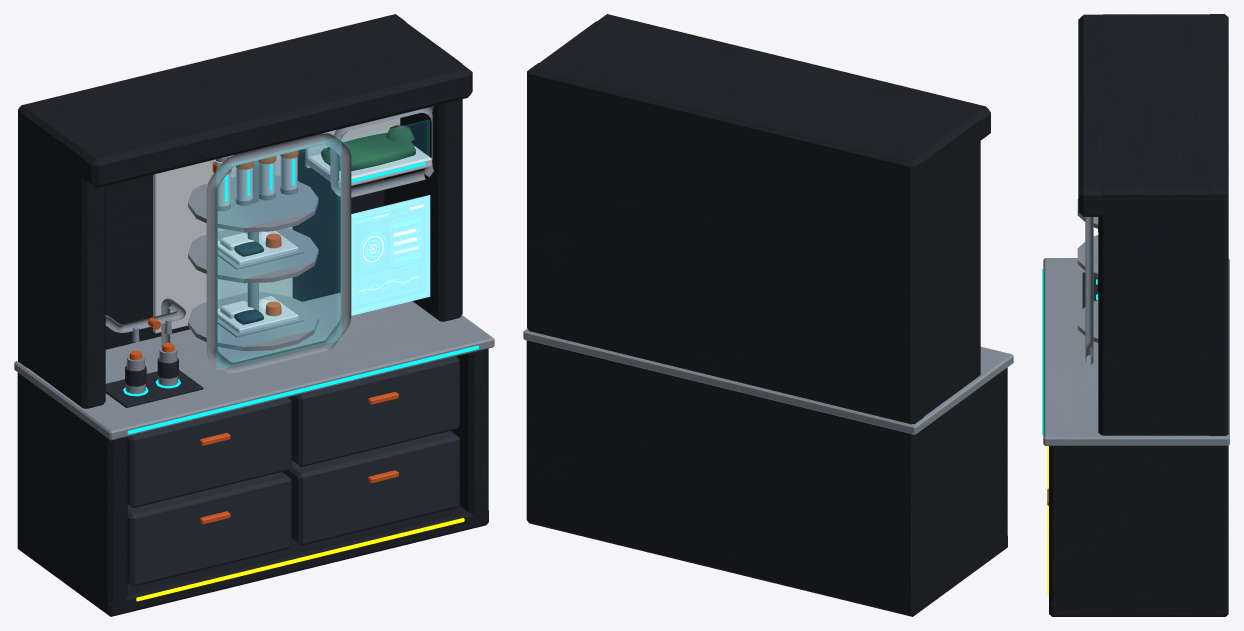
File: galley_synth_r1_03.glb
3 views of the same model, side by side, from view 1: azimuth 30°, elevation 25°; view 2: azimuth 150°, elevation 25°; view 3: azimuth 270°, elevation 25° (orthographic). The views are drawn at different scales.
Parts seen in each view (by area): view 1: Galley03_GunmetalAutomatonHousing, Galley03_CarbonSlateDrawers, Galley03_MachinedCarouselAndTap, Galley03_TranslucentCarouselWindow, Galley03_WhiteTraysAndCanisters, Galley03_RightOLEDOrderingKiosk, Galley03_CyanCoastersAndCarouselLED, Galley03_AeroponicHerbs, Galley03_CharcoalPads, Galley03_SignalOrangeValves, Galley03_AmberCarouselLED, Galley03_NavyPouches; view 2: Galley03_GunmetalAutomatonHousing, Galley03_MachinedCarouselAndTap; view 3: Galley03_GunmetalAutomatonHousing, Galley03_MachinedCarouselAndTap, Galley03_CyanCoastersAndCarouselLED.
Boxes of the visible parts, box(x1,y1,x2,y2) form: Galley03_GunmetalAutomatonHousing: box(17, 14, 488, 616); Galley03_CarbonSlateDrawers: box(127, 356, 459, 586); Galley03_MachinedCarouselAndTap: box(14, 106, 494, 440); Galley03_TranslucentCarouselWindow: box(217, 120, 429, 369); Galley03_WhiteTraysAndCanisters: box(153, 118, 431, 333); Galley03_RightOLEDOrderingKiosk: box(351, 195, 430, 315); Galley03_CyanCoastersAndCarouselLED: box(123, 158, 478, 434); Galley03_AeroponicHerbs: box(321, 125, 415, 170); Galley03_CharcoalPads: box(105, 357, 203, 407); Galley03_SignalOrangeValves: box(129, 150, 398, 524); Galley03_AmberCarouselLED: box(136, 518, 464, 601); Galley03_NavyPouches: box(234, 241, 263, 324); Galley03_GunmetalAutomatonHousing: box(526, 14, 1007, 616); Galley03_MachinedCarouselAndTap: box(523, 328, 1013, 435); Galley03_GunmetalAutomatonHousing: box(1049, 14, 1228, 616); Galley03_MachinedCarouselAndTap: box(1043, 199, 1229, 445); Galley03_CyanCoastersAndCarouselLED: box(1042, 268, 1098, 435).
Size of the model in its own units: 1.9 by 2.1 by 0.836.
Materials: 13 (13 with a texture image).
